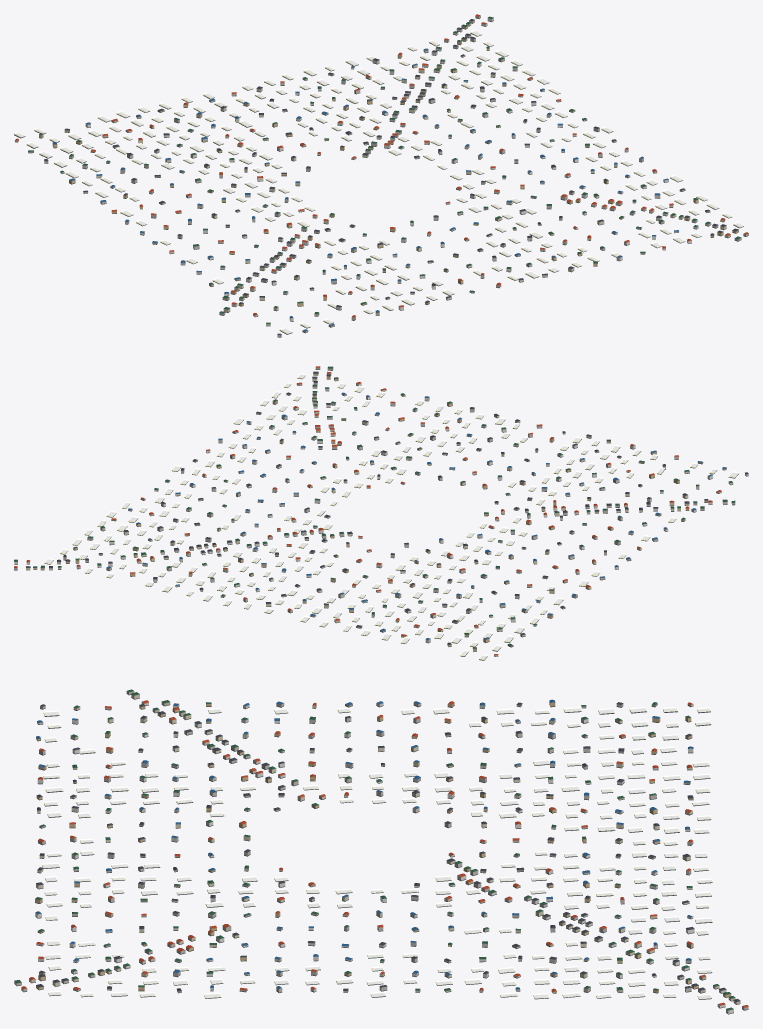
The model's file is buildings_T_E03_N05.glb.
3 renders of one model, top to bottom at view 1: azimuth 30°, elevation 25°; view 2: azimuth 150°, elevation 25°; view 3: azimuth 270°, elevation 25°, orthographic. The views are drawn at different scales.
Visible parts, largest first — view 1: T_E03_N05_roofs_agri_greenhouse_arch, T_E03_N05_slope_seating_foundations, T_E03_N05_walls_wall_pastel_sand_gray, T_E03_N05_walls_wall_dalat_cream_stucco, T_E03_N05_roofs_roof_slate_French_villa_hip, T_E03_N05_walls_wall_modern_warm_white, T_E03_N05_walls_wall_french_ochre_villa, T_E03_N05_roofs_roof_pine_green_hip, T_E03_N05_roofs_roof_terracotta_gable, T_E03_N05_roofs_roof_highland_blue_gable; view 2: T_E03_N05_roofs_agri_greenhouse_arch, T_E03_N05_slope_seating_foundations, T_E03_N05_walls_wall_pastel_sand_gray, T_E03_N05_roofs_roof_slate_French_villa_hip, T_E03_N05_walls_wall_dalat_cream_stucco, T_E03_N05_walls_wall_modern_warm_white, T_E03_N05_walls_wall_french_ochre_villa, T_E03_N05_roofs_roof_pine_green_hip, T_E03_N05_roofs_roof_terracotta_gable, T_E03_N05_roofs_roof_highland_blue_gable; view 3: T_E03_N05_roofs_agri_greenhouse_arch, T_E03_N05_slope_seating_foundations, T_E03_N05_walls_wall_pastel_sand_gray, T_E03_N05_walls_wall_dalat_cream_stucco, T_E03_N05_roofs_roof_slate_French_villa_hip, T_E03_N05_walls_wall_modern_warm_white, T_E03_N05_walls_wall_french_ochre_villa, T_E03_N05_roofs_roof_pine_green_hip, T_E03_N05_roofs_roof_terracotta_gable, T_E03_N05_roofs_roof_highland_blue_gable.
Part boxes in pixels (x1,y1,x2,y2): T_E03_N05_roofs_agri_greenhouse_arch: (14,30,743,333); T_E03_N05_slope_seating_foundations: (14,17,748,337); T_E03_N05_walls_wall_pastel_sand_gray: (28,15,748,336); T_E03_N05_walls_wall_dalat_cream_stucco: (15,20,730,332); T_E03_N05_roofs_roof_slate_French_villa_hip: (44,19,738,335); T_E03_N05_walls_wall_modern_warm_white: (60,18,698,321); T_E03_N05_walls_wall_french_ochre_villa: (39,26,738,326); T_E03_N05_roofs_roof_pine_green_hip: (28,16,741,324); T_E03_N05_roofs_roof_terracotta_gable: (15,14,748,317); T_E03_N05_roofs_roof_highland_blue_gable: (52,48,678,331); T_E03_N05_roofs_agri_greenhouse_arch: (44,373,738,659); T_E03_N05_slope_seating_foundations: (14,369,748,660); T_E03_N05_walls_wall_pastel_sand_gray: (14,367,748,646); T_E03_N05_roofs_roof_slate_French_villa_hip: (26,371,748,644); T_E03_N05_walls_wall_dalat_cream_stucco: (26,373,733,656); T_E03_N05_walls_wall_modern_warm_white: (14,383,721,642); T_E03_N05_walls_wall_french_ochre_villa: (40,373,708,650); T_E03_N05_roofs_roof_pine_green_hip: (14,366,735,648); T_E03_N05_roofs_roof_terracotta_gable: (14,366,721,655); T_E03_N05_roofs_roof_highland_blue_gable: (106,392,726,640); T_E03_N05_roofs_agri_greenhouse_arch: (42,706,712,999); T_E03_N05_slope_seating_foundations: (14,693,748,1014); T_E03_N05_walls_wall_pastel_sand_gray: (14,691,748,1010); T_E03_N05_walls_wall_dalat_cream_stucco: (29,694,740,1004); T_E03_N05_roofs_roof_slate_French_villa_hip: (36,702,740,1001); T_E03_N05_walls_wall_modern_warm_white: (35,701,733,1013); T_E03_N05_walls_wall_french_ochre_villa: (35,701,731,997); T_E03_N05_roofs_roof_pine_green_hip: (14,689,735,1010); T_E03_N05_roofs_roof_terracotta_gable: (21,700,748,1007); T_E03_N05_roofs_roof_highland_blue_gable: (35,699,693,989).
Size of the model in its own units: 1898 by 50.24 by 1898.
